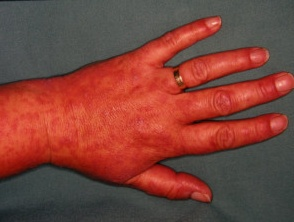SJS-TEN: (0, 36, 215, 217)
